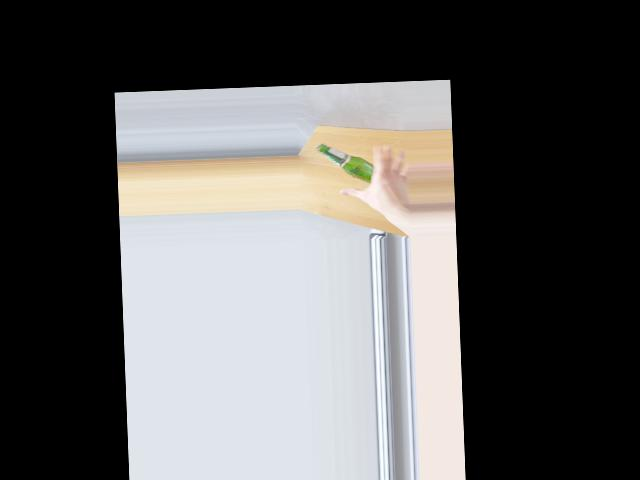beer: (316, 142, 374, 186)
